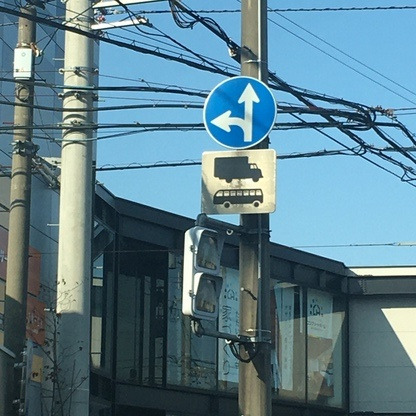Direction_sign: (197, 78, 286, 149)
